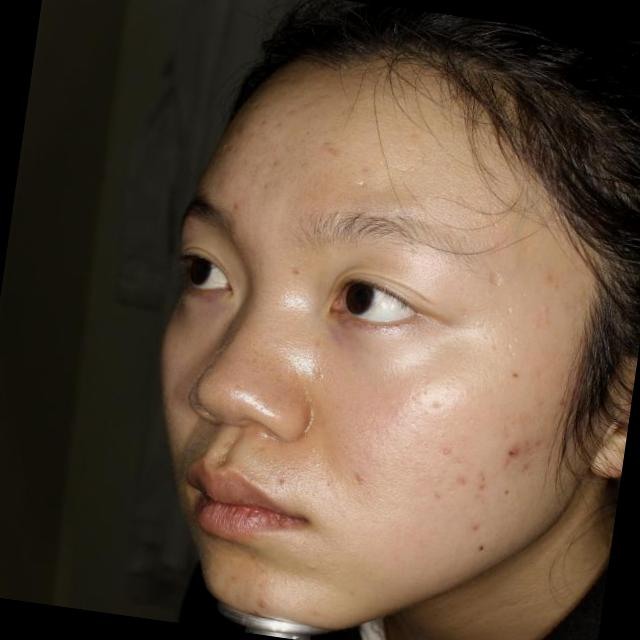acne: (496, 433, 544, 463), (474, 463, 504, 491), (447, 460, 472, 492), (461, 514, 490, 541), (248, 591, 274, 616), (547, 392, 575, 412)
